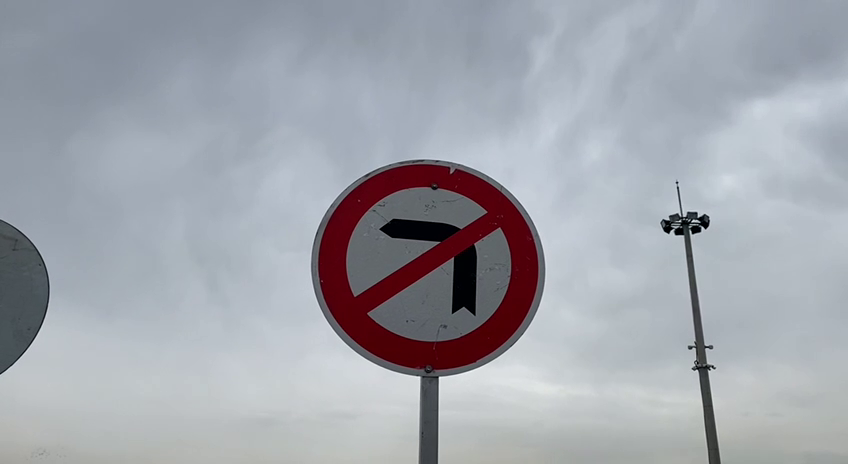noTurnLeft: (308, 157, 549, 380)
